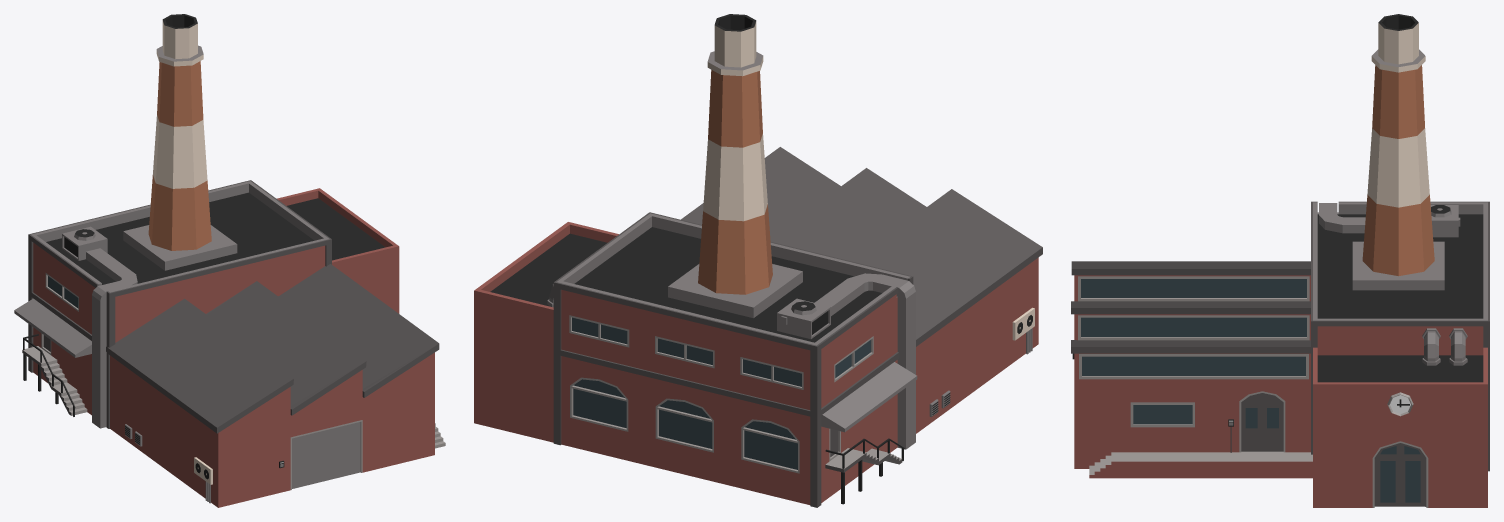
Rendered from buildings_industry-factory-old.fbx.
3 views of the same model, side by side, from view 1: azimuth 30°, elevation 25°; view 2: azimuth 150°, elevation 25°; view 3: azimuth 270°, elevation 25° (orthographic). The views are drawn at different scales.
Parts seen in each view (by area): view 1: buildings_industry_factory_old; view 2: buildings_industry_factory_old; view 3: buildings_industry_factory_old.
Boxes of the visible parts, <box> form: buildings_industry_factory_old: <box>14,14,445,507</box>; buildings_industry_factory_old: <box>474,14,1042,507</box>; buildings_industry_factory_old: <box>1071,14,1489,507</box>.
Bounding box in the file's own units: 185 × 200 × 195.
